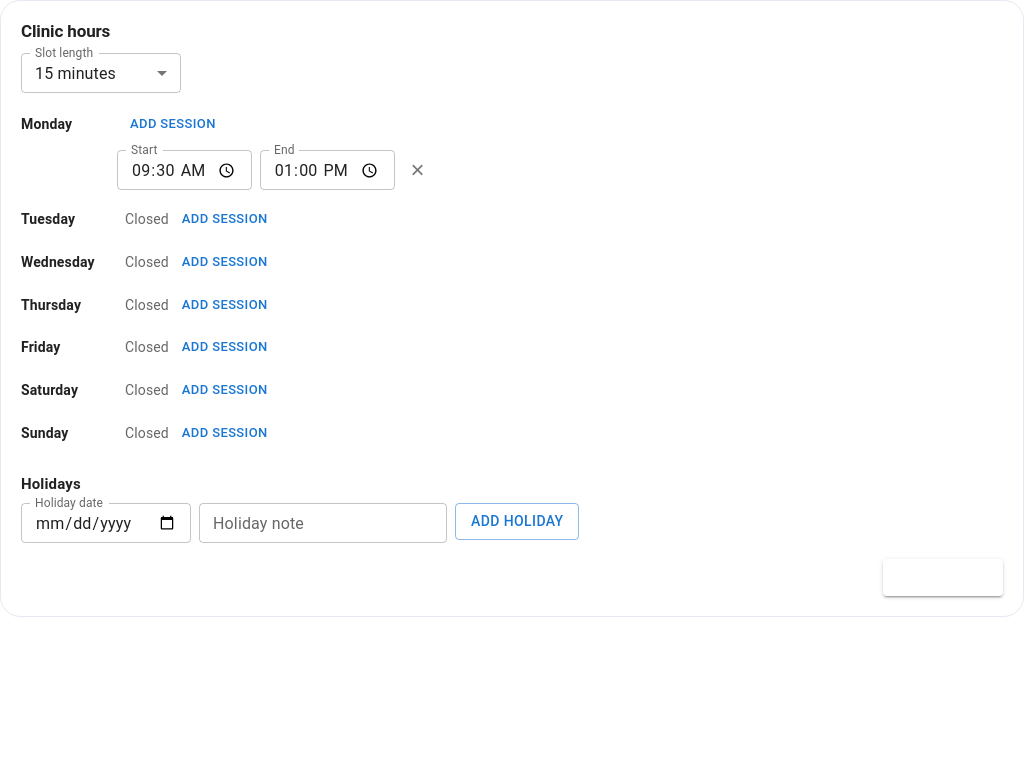
ClinicHoursSection › adds and removes sessions
Click the button with aria-label "Add session Tuesday" at [225, 220], box [177,204,273,235]
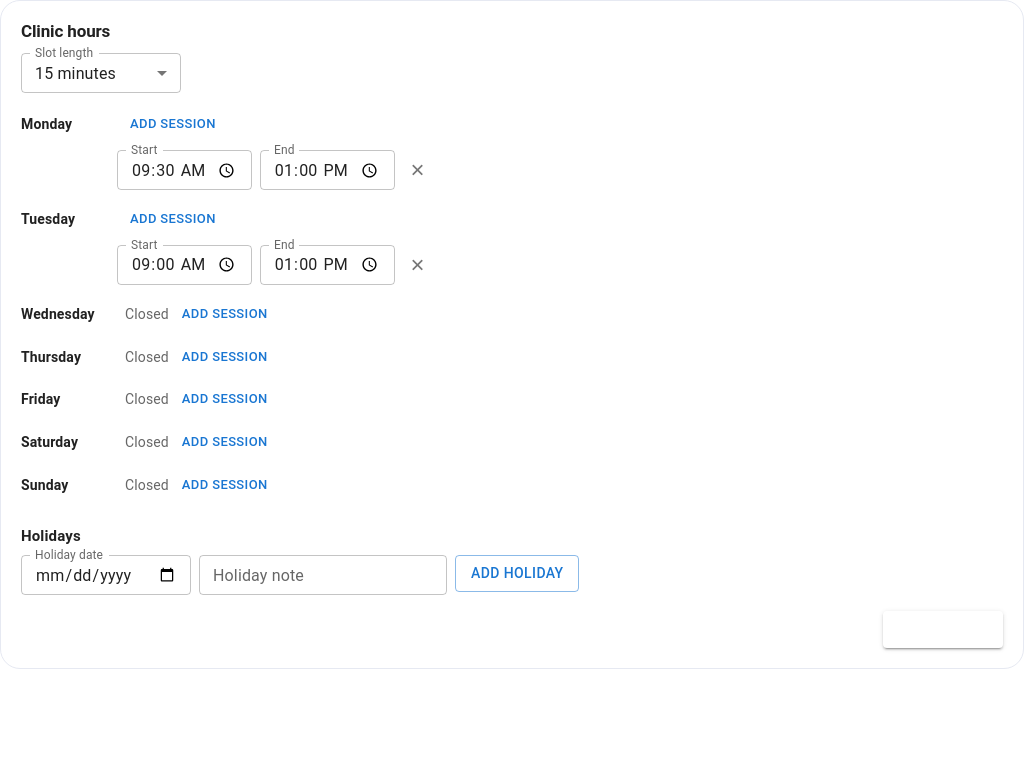
Expected: the time field named "Tuesday start 1" is shown, [117,245,252,285]
Click the button named "Remove Tuesday session 1" at [418, 265], box [403,243,433,287]
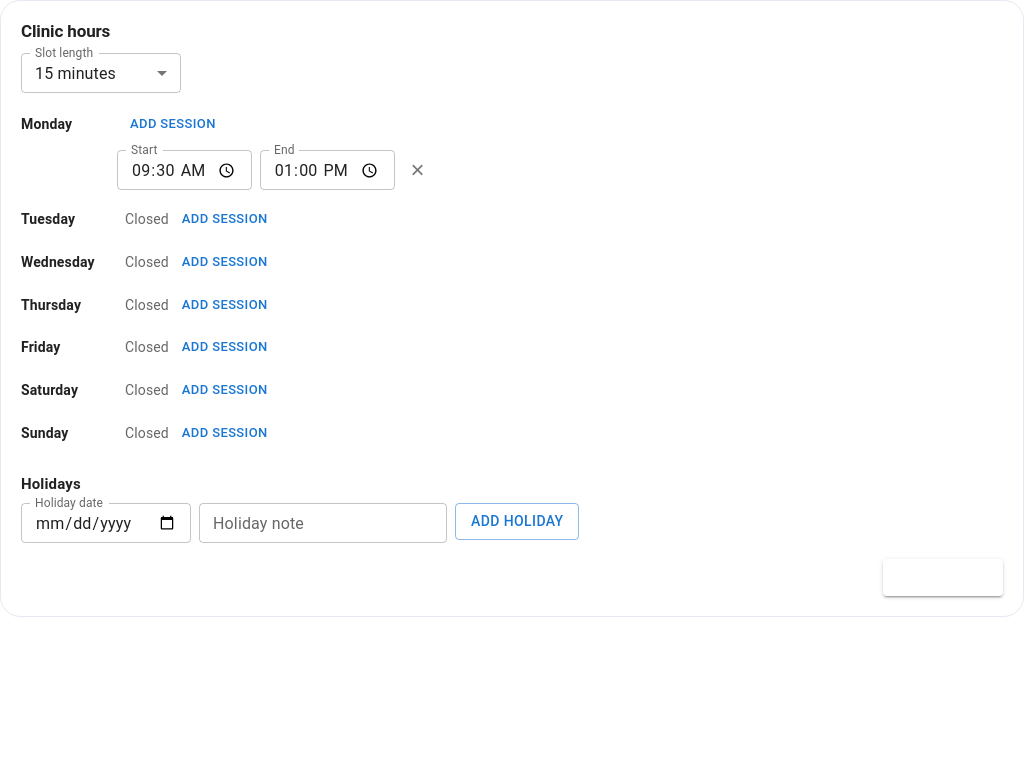
Expected: the element with test id "day-tue" shows "Closed", [125,211,169,227]
